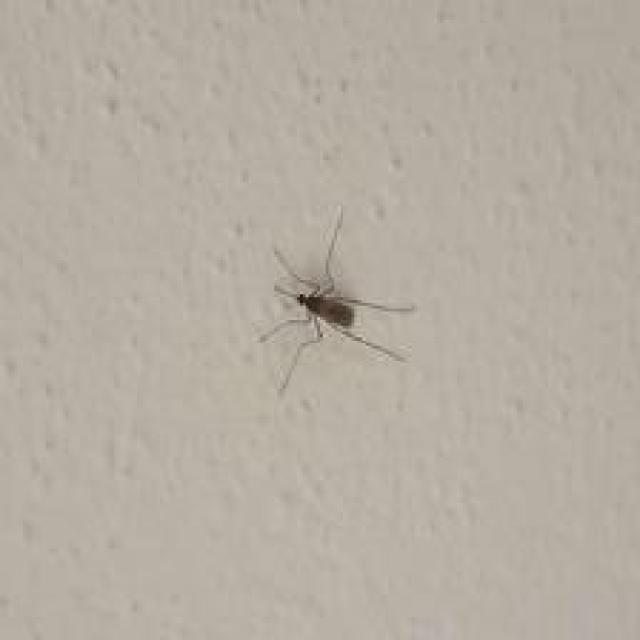Culex: (255, 204, 416, 393)
